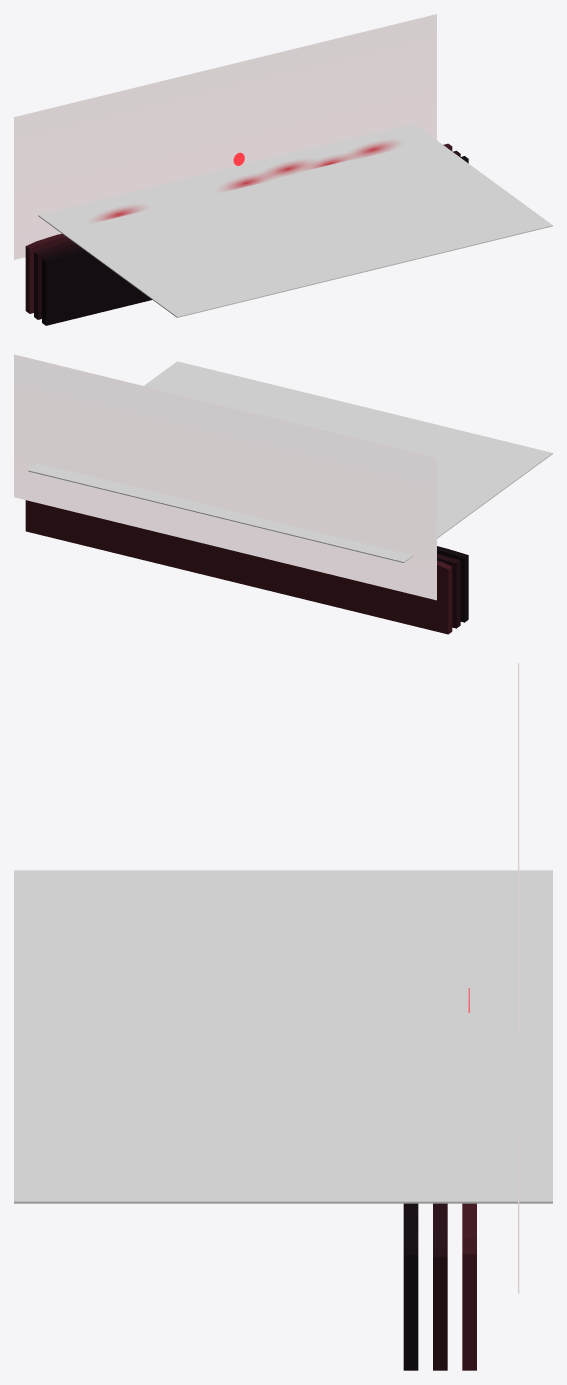
File: bloodmoon.glb
3 renders of one model, top to bottom at view 1: azimuth 30°, elevation 25°; view 2: azimuth 150°, elevation 25°; view 3: azimuth 270°, elevation 25°, orthographic. The views are drawn at different scales.
Parts seen in each view (by area): view 1: Ground contact / transparent shadow receiver.025, Sky gradient / editable material.025, World / terrain and architecture.020, Motion / cloud 6.004, Motion / cloud 4.004; view 2: Sky gradient / editable material.025, Ground contact / transparent shadow receiver.025, World / terrain and architecture.020; view 3: Ground contact / transparent shadow receiver.025, World / terrain and architecture.020, Sky gradient / editable material.025.
Boxes of the visible parts, x1,y1,x2,y2 form: Ground contact / transparent shadow receiver.025: (38,123,552,317); Sky gradient / editable material.025: (14,14,436,259); World / terrain and architecture.020: (25,143,468,325); Motion / cloud 6.004: (351,142,395,157); Motion / cloud 4.004: (266,161,310,176); Sky gradient / editable material.025: (14,354,436,600); Ground contact / transparent shadow receiver.025: (28,361,552,562); World / terrain and architecture.020: (25,500,468,634); Ground contact / transparent shadow receiver.025: (14,870,552,1203); World / terrain and architecture.020: (403,1203,476,1370); Sky gradient / editable material.025: (518,663,519,1293).
Size of the model in its own units: 180 by 75.4 by 110.
9 materials, 1 textured.
